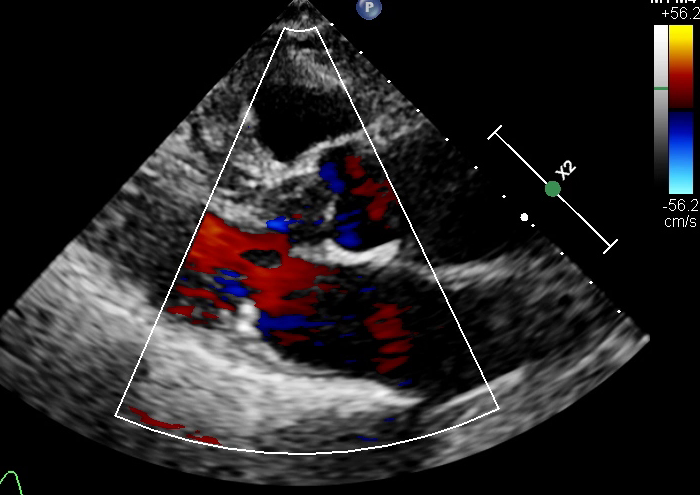AR: (248, 193, 329, 270)
